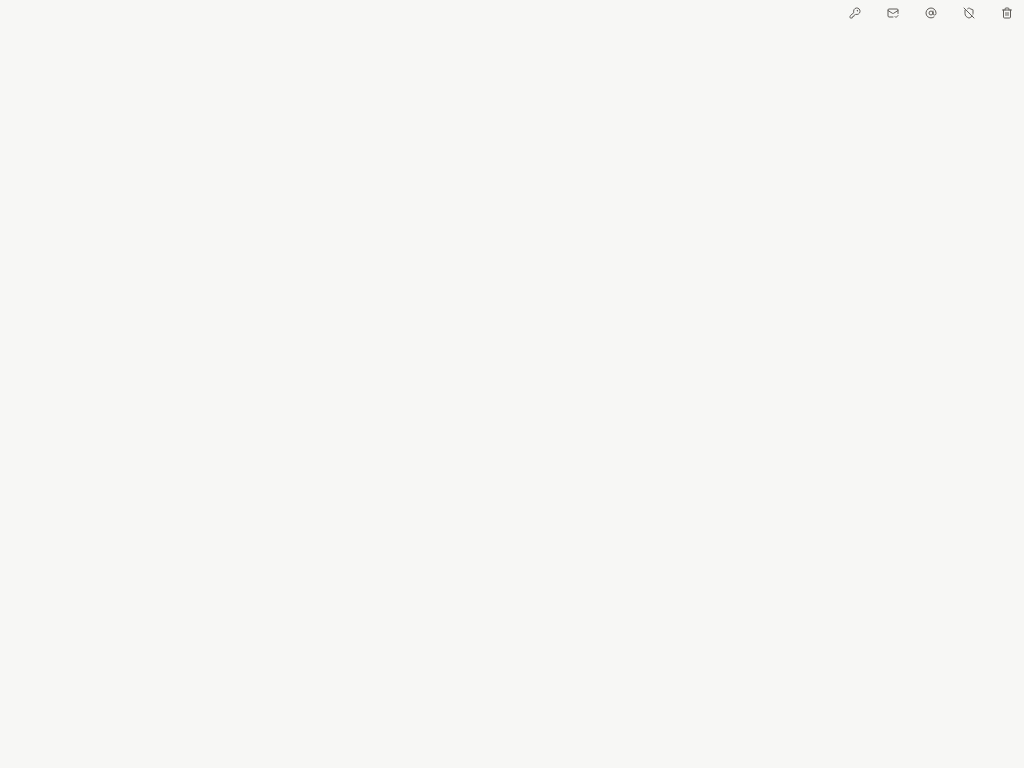
Test: UserRowActions: change email › cancelling sends nothing
Step 1. Click the button named "change email for tester@example.com" → (931, 13), box [914, 0, 948, 26]
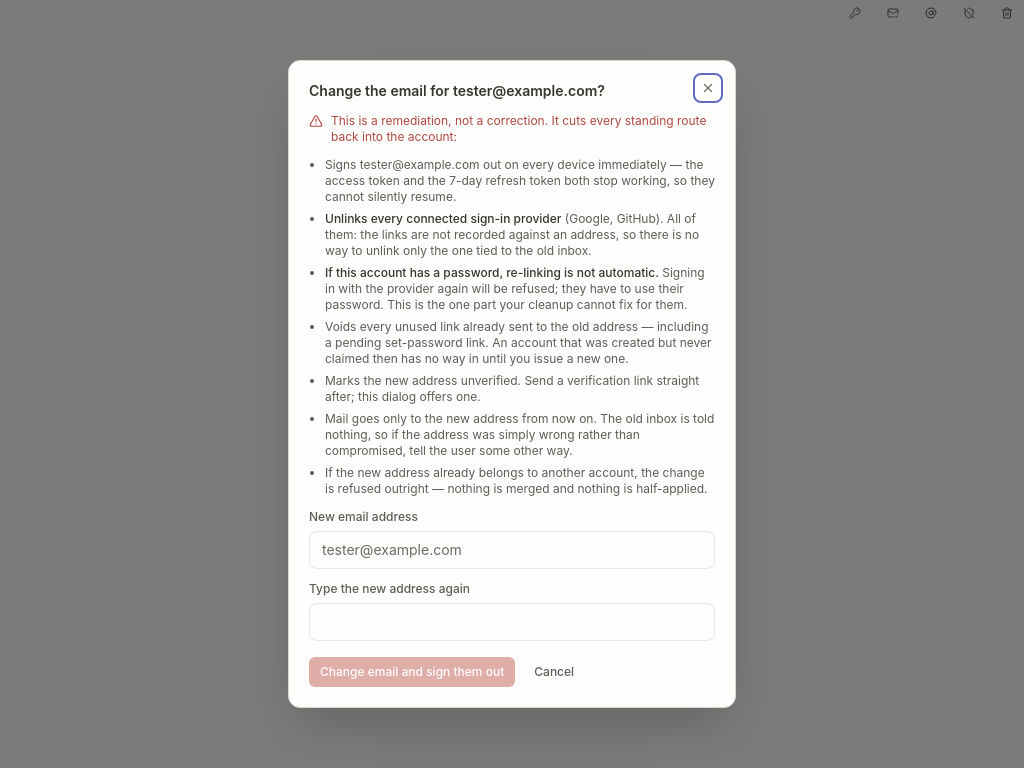
Step 2. Click the field labelled "New email address" → (512, 550), box [309, 531, 715, 569]
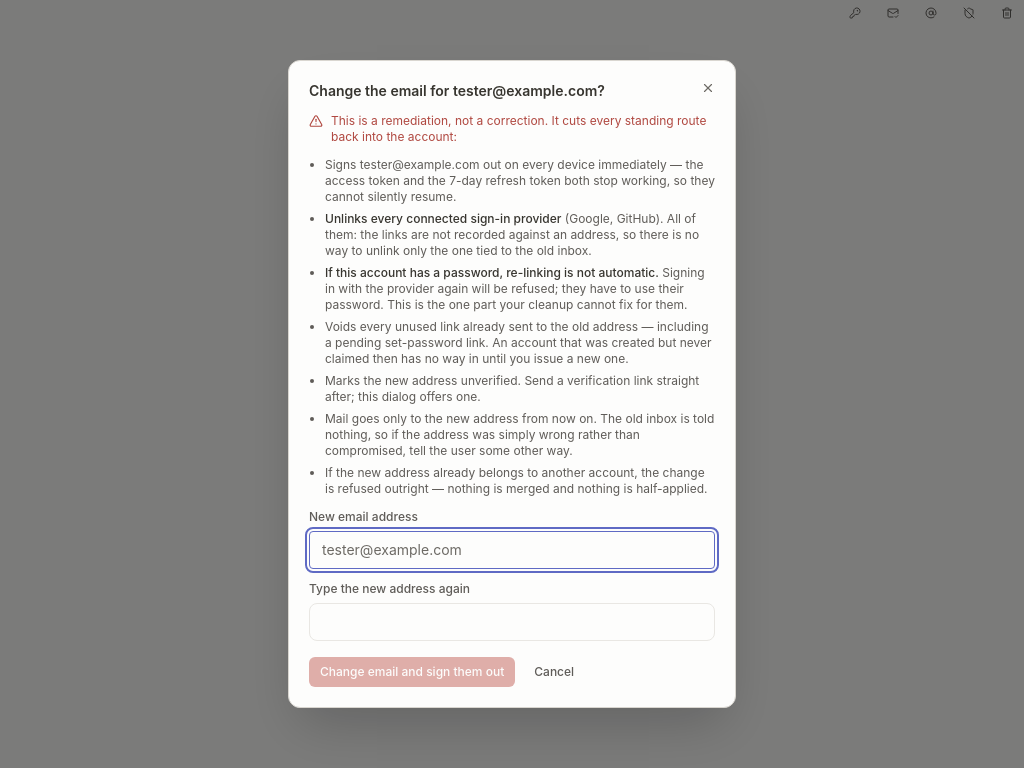
Step 3. Type keys "moved@example.com"
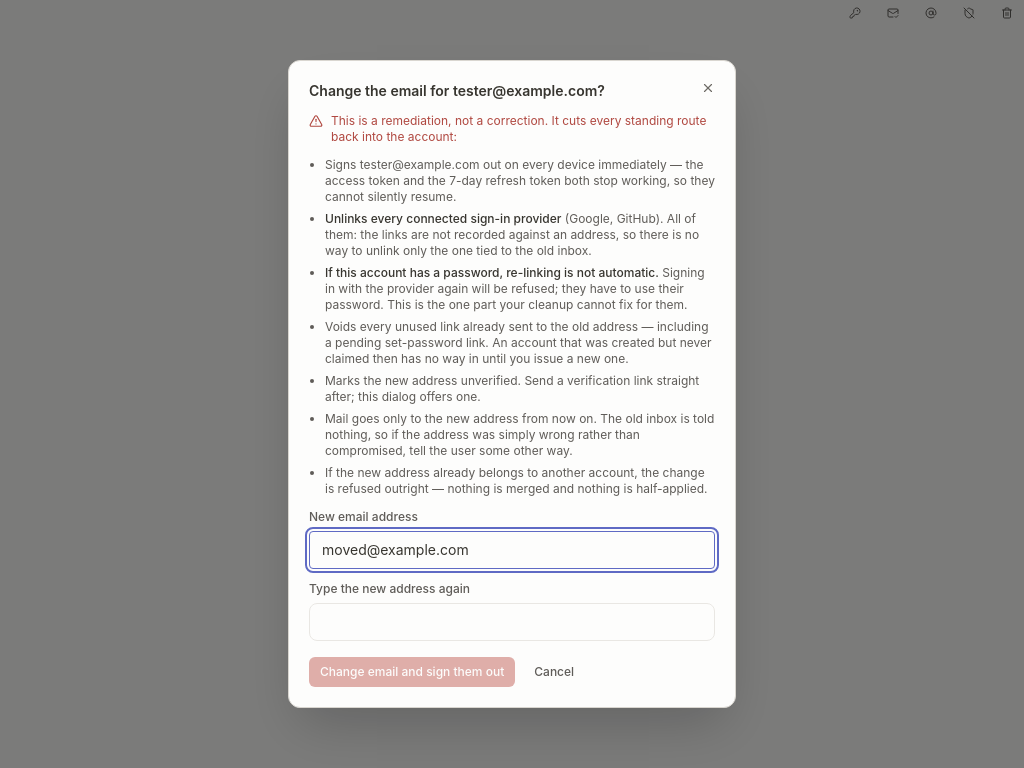
Step 4. Click the field labelled "Type the new address again" → (512, 622), box [309, 603, 715, 641]
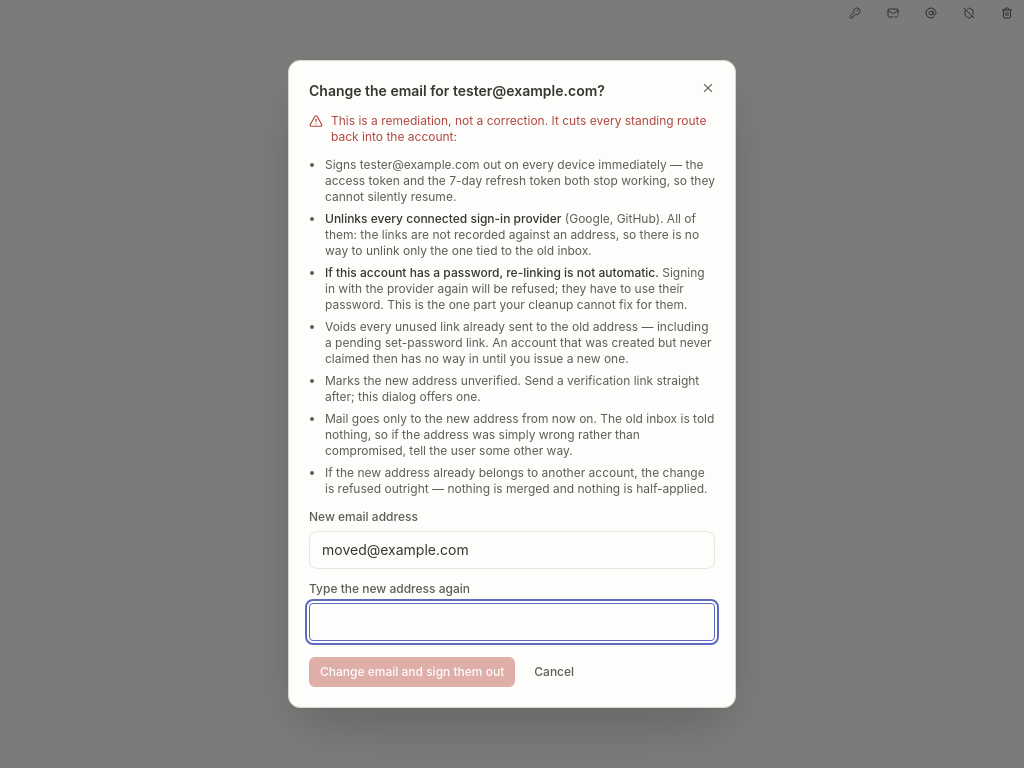
Step 5. Type keys "moved@example.com"
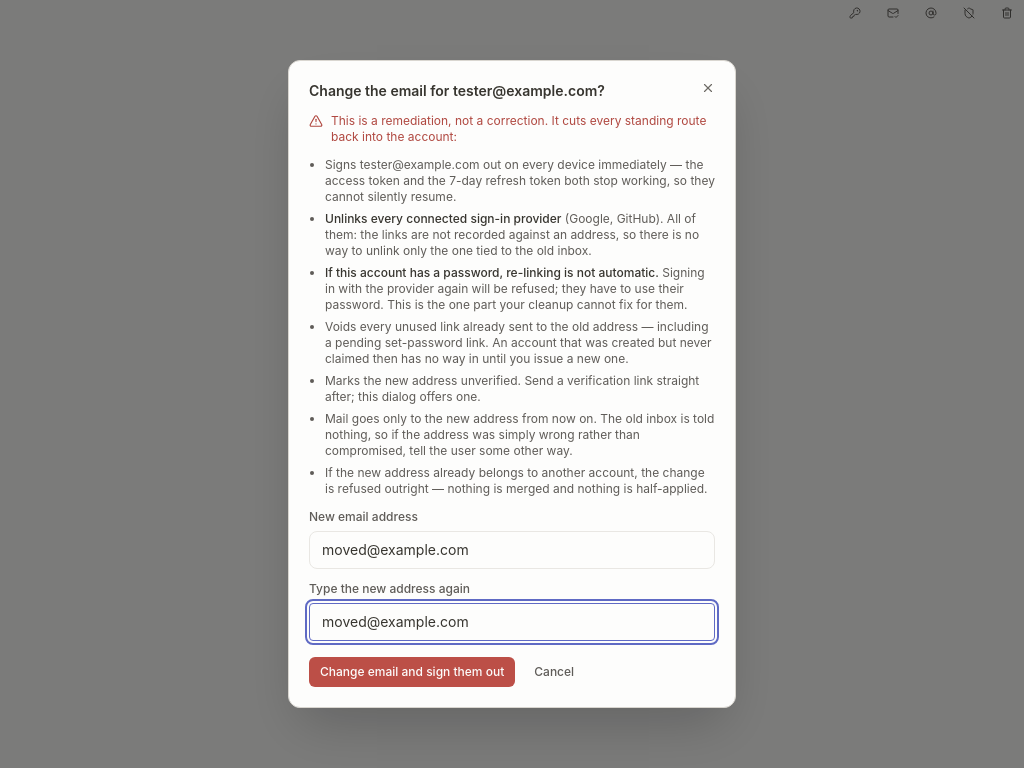
Step 6. Click the button "Cancel" → (554, 672), box [523, 657, 585, 687]
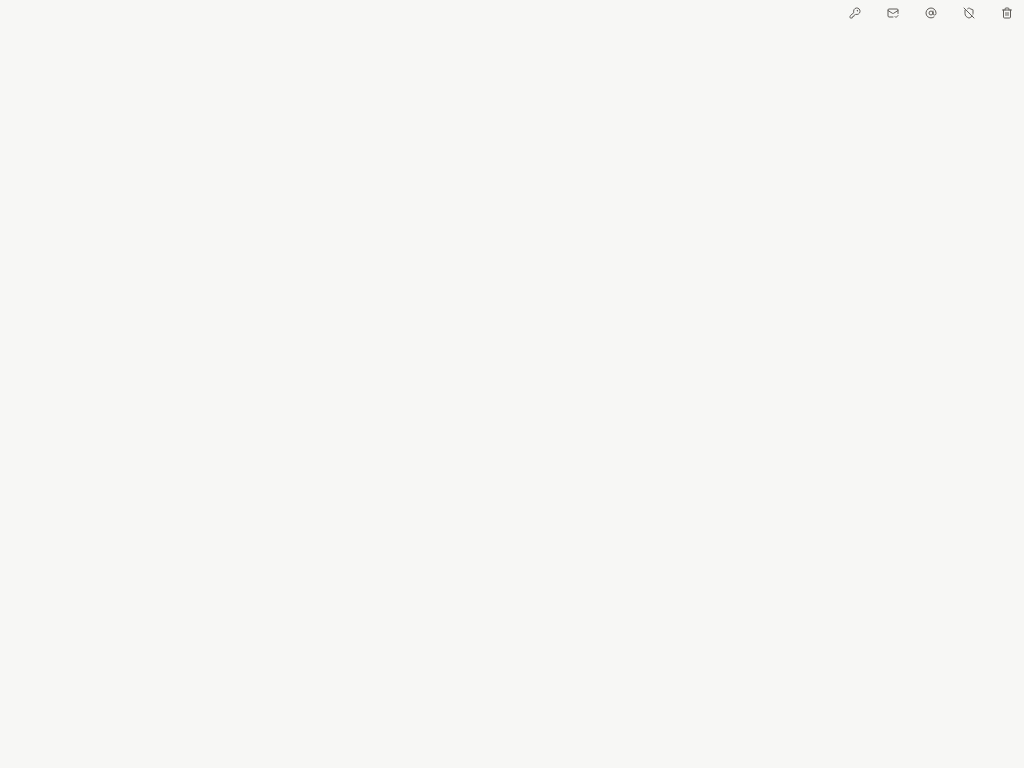
Result: the dialog is gone
